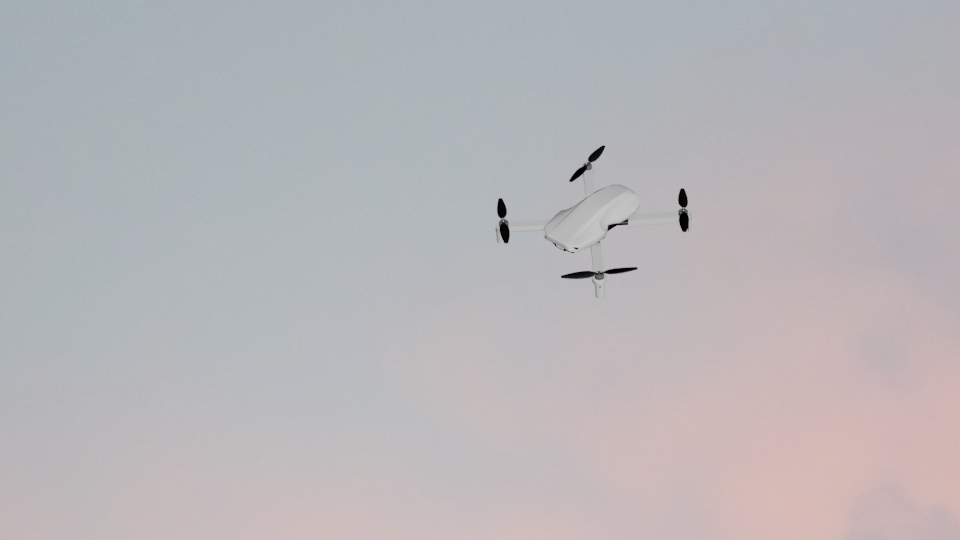drone: (492, 147, 686, 301)
